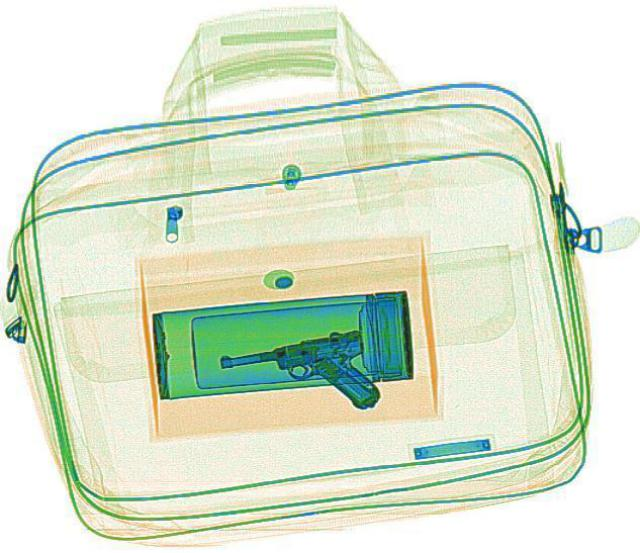Gun: (214, 327, 382, 428)
